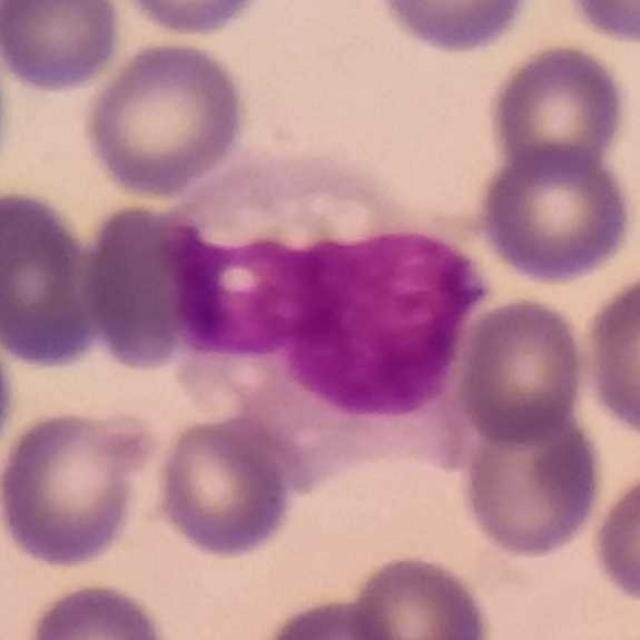Monocyte: (158, 143, 491, 489)
RBC: (78, 37, 251, 200), (0, 405, 156, 571), (76, 199, 222, 372), (455, 402, 607, 561), (474, 139, 637, 286), (149, 411, 302, 562), (453, 294, 590, 448), (483, 40, 632, 179), (0, 184, 105, 370), (344, 550, 496, 640), (0, 0, 125, 95), (579, 264, 640, 445), (20, 577, 177, 640), (368, 0, 541, 57), (587, 464, 640, 610), (253, 592, 413, 640), (109, 0, 275, 39), (560, 0, 640, 47)
